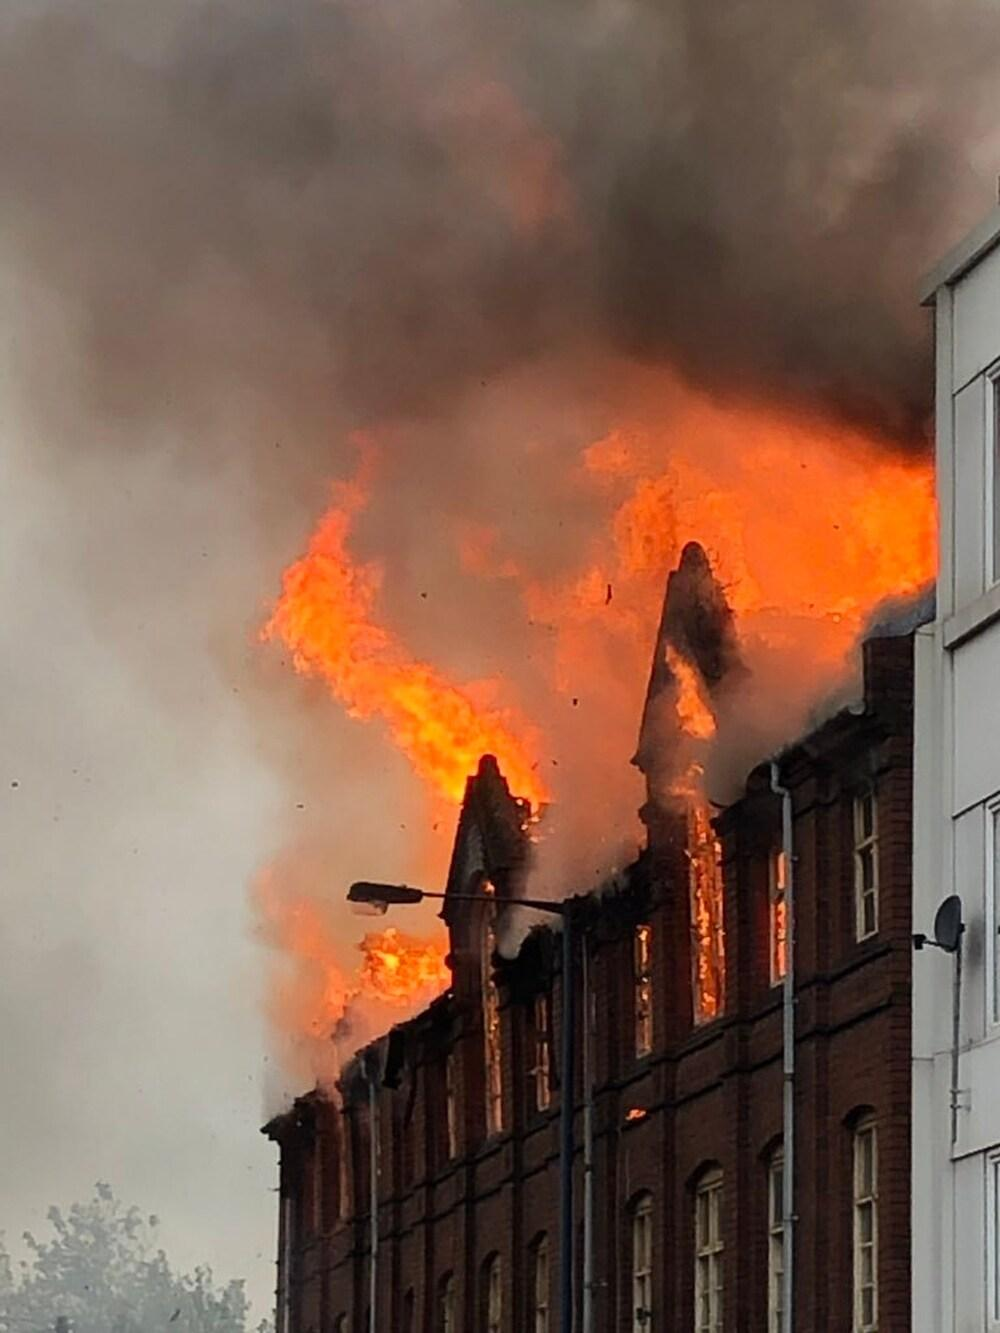Fire: (259, 453, 547, 853), (572, 446, 765, 740), (246, 896, 466, 1064), (662, 764, 728, 1023)
